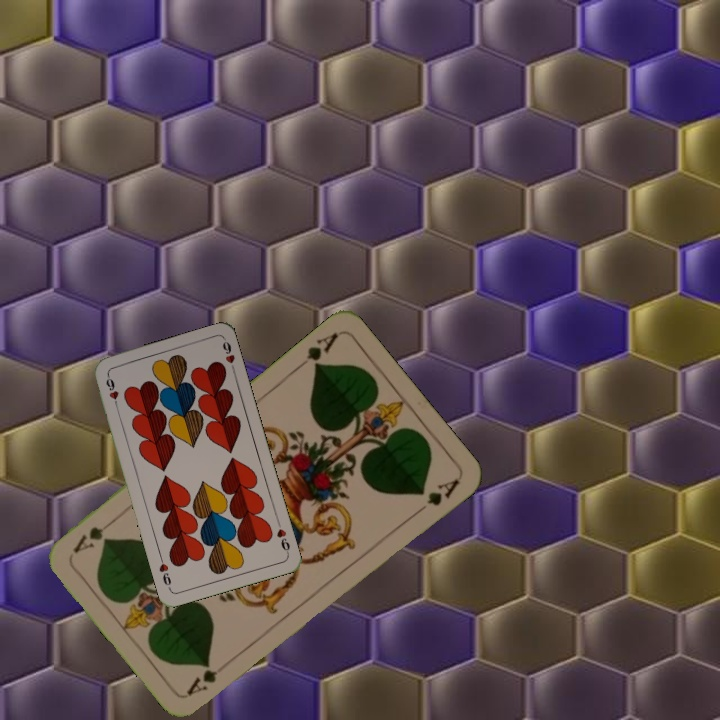GA: (292, 328, 341, 372), (182, 665, 220, 698)
H9: (273, 517, 292, 557), (102, 370, 121, 410)
